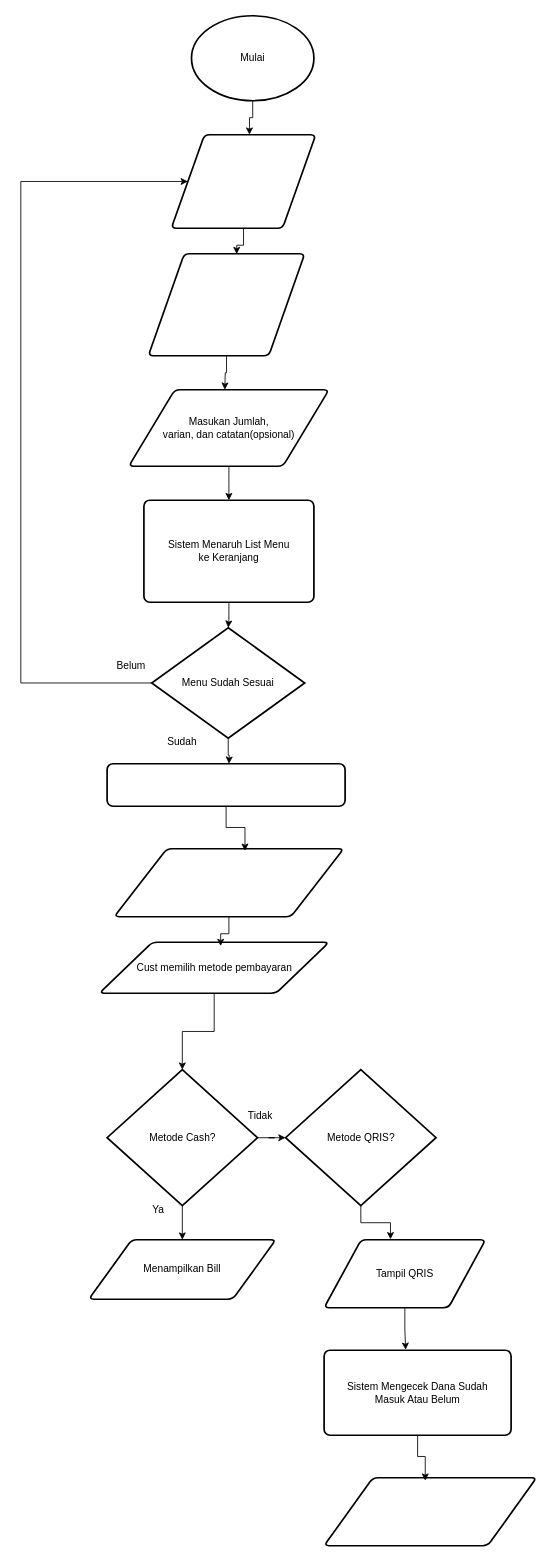
The diagram is 553 pixels wide and 1561 high, and some of its shapes have lost their labels. The centre of each missing label's shape, as x and y in pixels:
"Cust Memilih Menu-Menu" goes at pixel 226 304.
"Menampilkan List Menu dn Harga" goes at pixel 228 882.
"Pembayaran Selesai" goes at pixel 430 1511.
"Sistem Menampilkan Menu" goes at pixel 243 181.
"Sistem Menghitung Jumlah Total Pesanan" goes at pixel 226 784.
